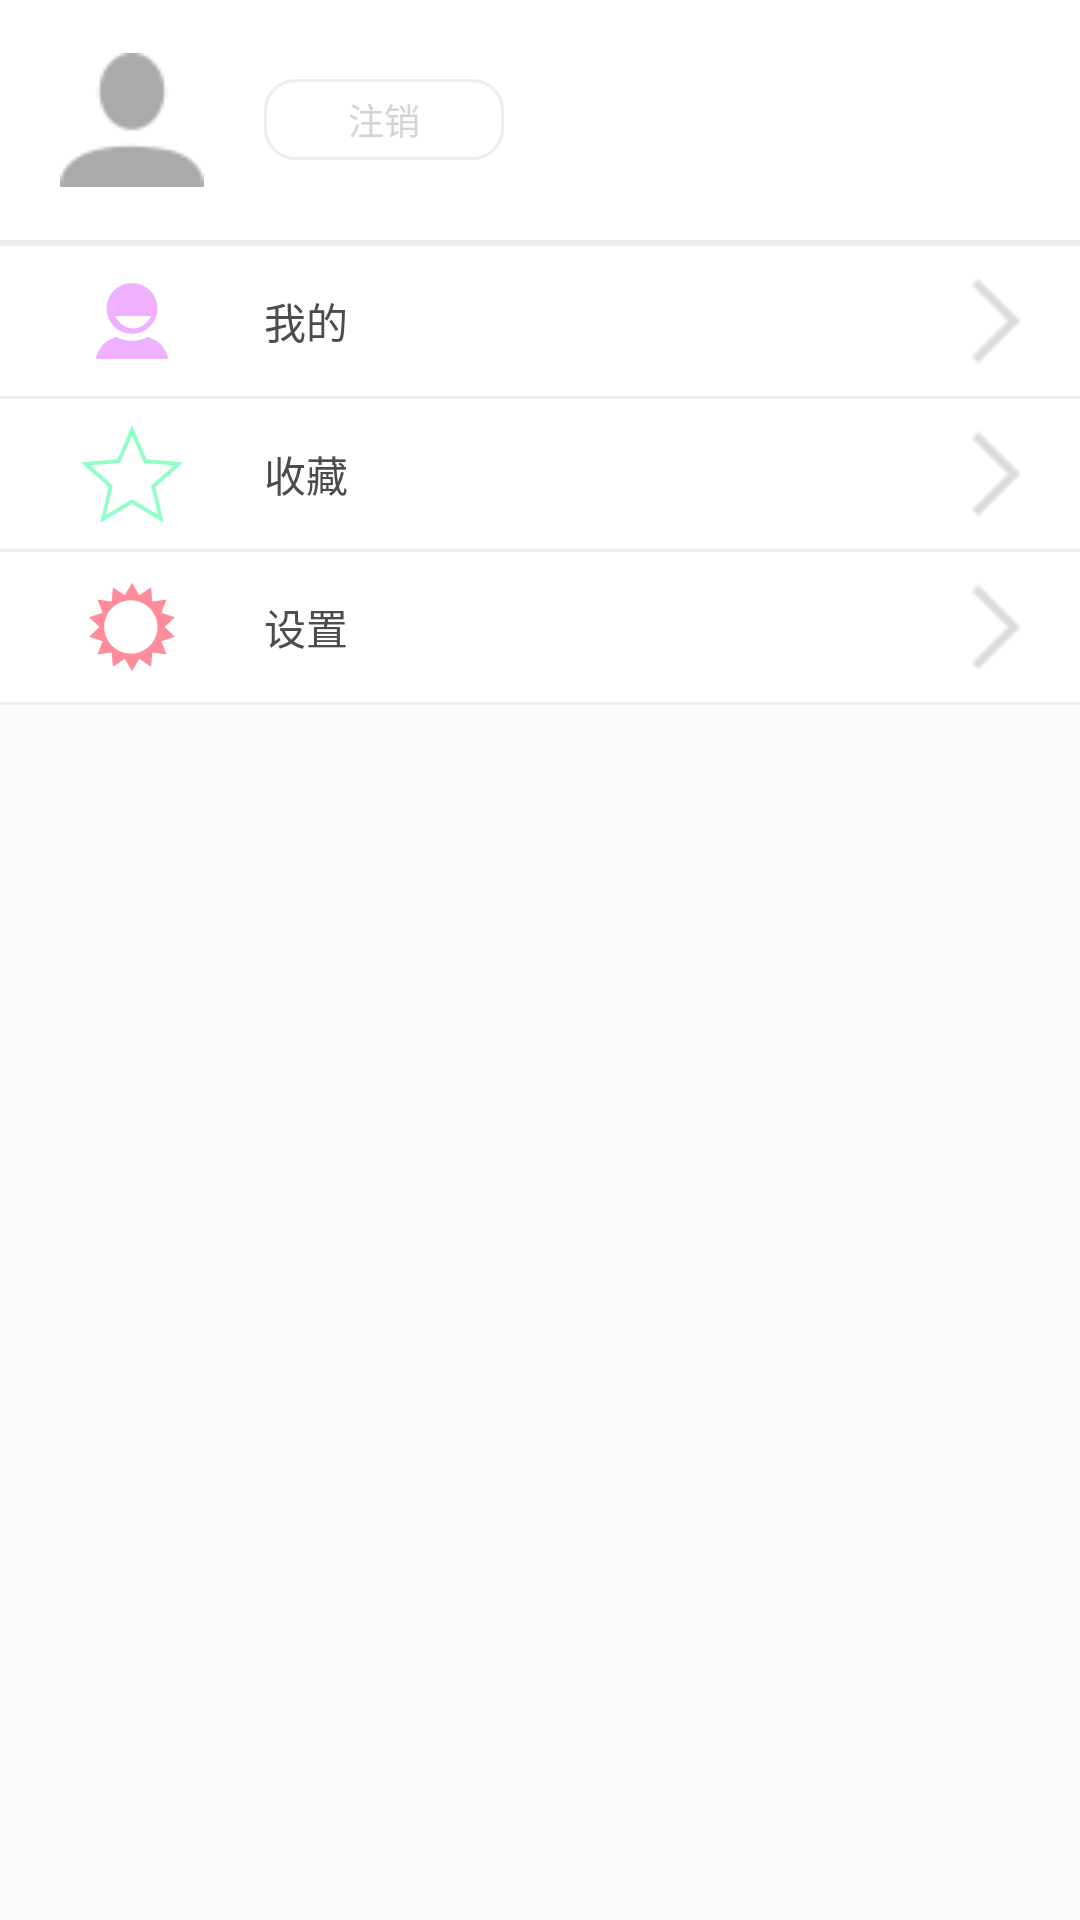

Where icons sit on this 1080x1920 app screen, as (x1, y1, x2, y2):
arrow: (975, 281, 1018, 361), (975, 434, 1018, 514), (975, 587, 1018, 667)
personal: (60, 53, 204, 187)
personal menu like: (81, 426, 183, 523)
personal menu my: (96, 283, 168, 359)
